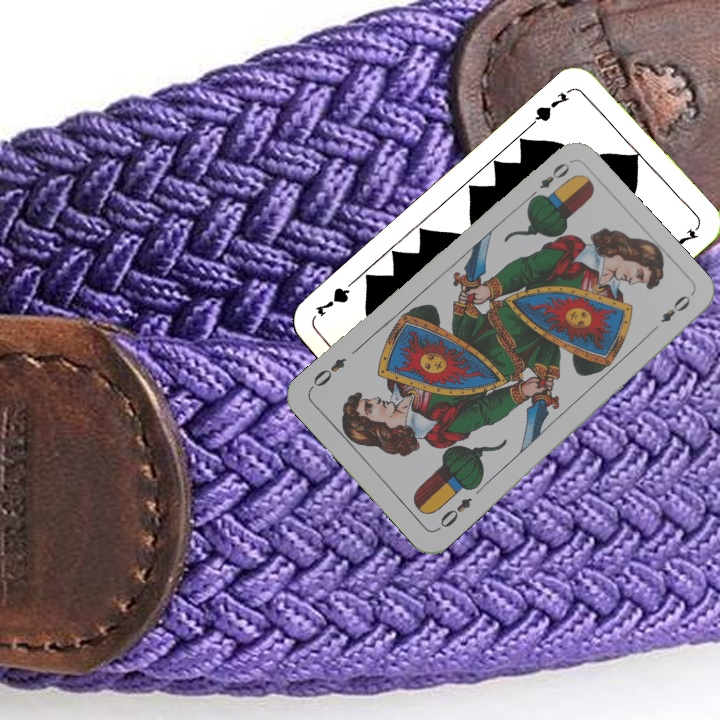EO: (524, 158, 572, 203), (433, 493, 475, 534)
G7: (527, 84, 576, 128)
